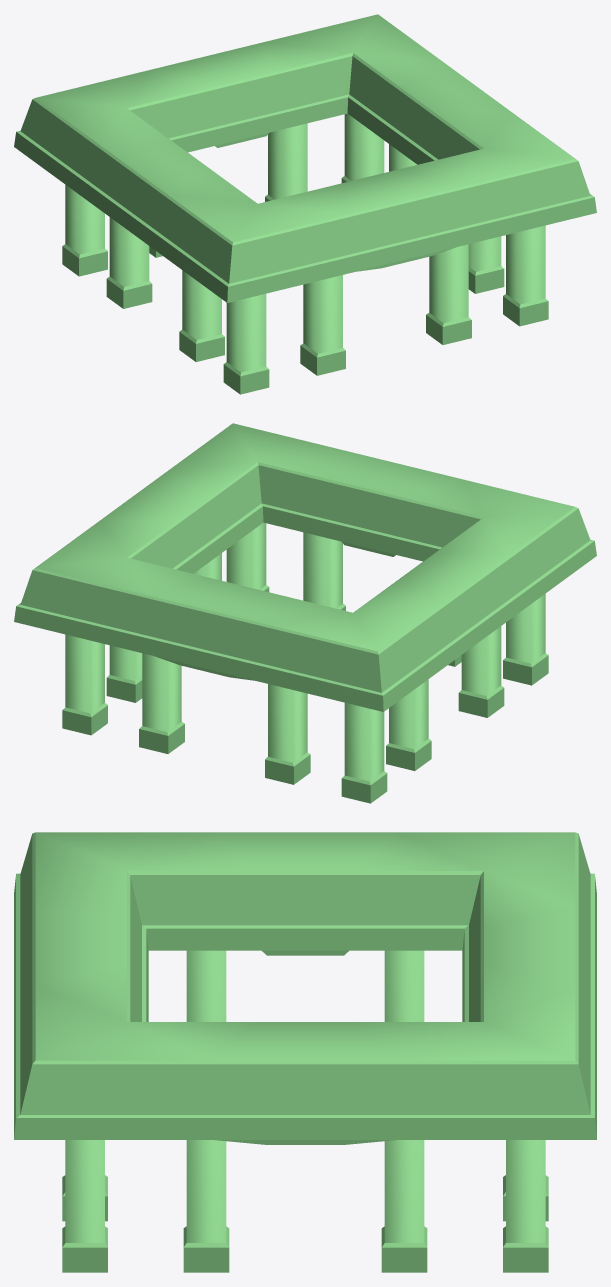
File: maya_civiccenter_c.dae
The picture shows the model from 3 angles, top to bottom: view 1: azimuth 30°, elevation 25°; view 2: azimuth 150°, elevation 25°; view 3: azimuth 270°, elevation 25°; orthographic projection. The views are drawn at different scales.
Parts seen in each view (by area): view 1: Box003_001; view 2: Box003_001; view 3: Box003_001.
Part boxes in pixels (<box>): Box003_001: <box>14,14,596,394</box>; Box003_001: <box>14,423,596,803</box>; Box003_001: <box>14,832,596,1272</box>.
Size of the model in its own units: 44.9 by 44.9 by 18.98.
